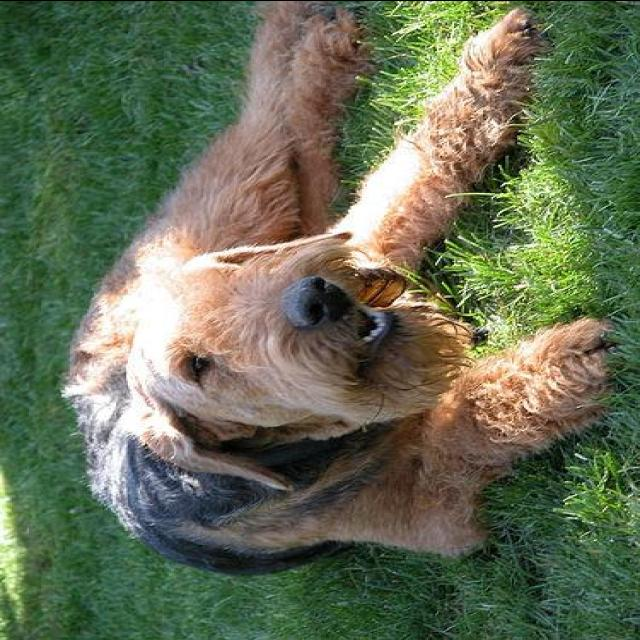airedale: (66, 1, 620, 578)
